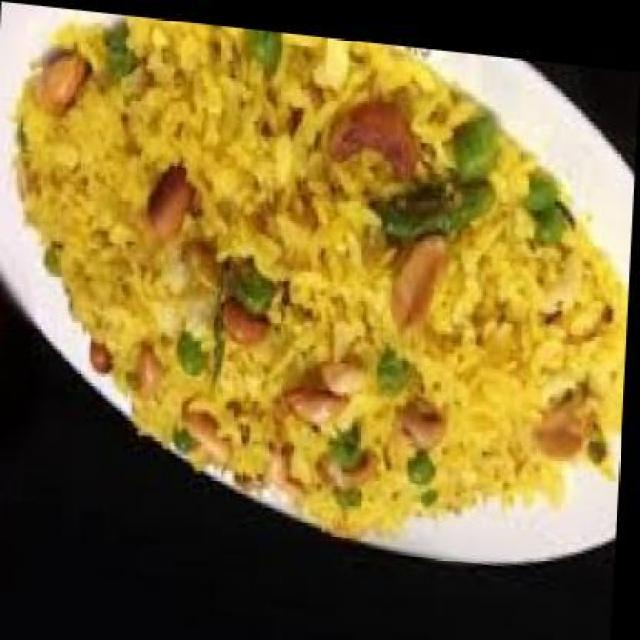poha: (3, 2, 640, 556)
